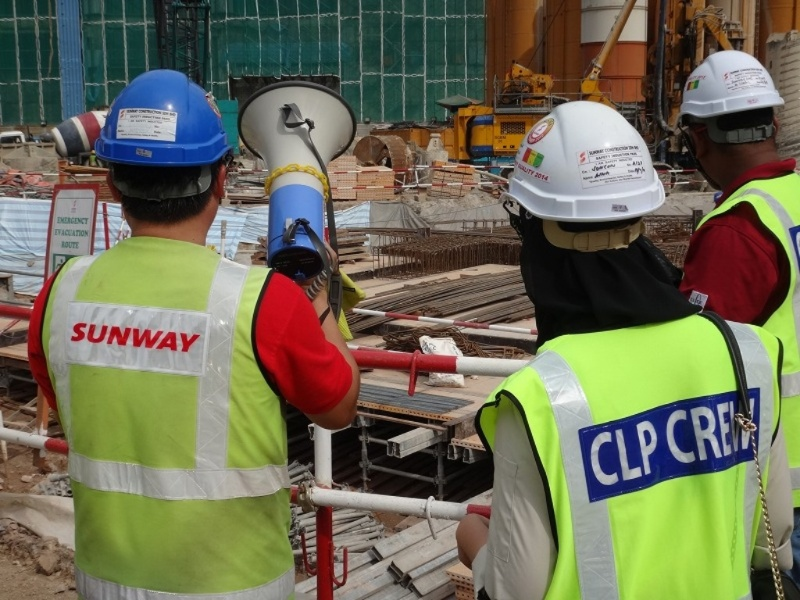Baret: (507, 102, 667, 218), (94, 70, 227, 164), (680, 49, 784, 113)
